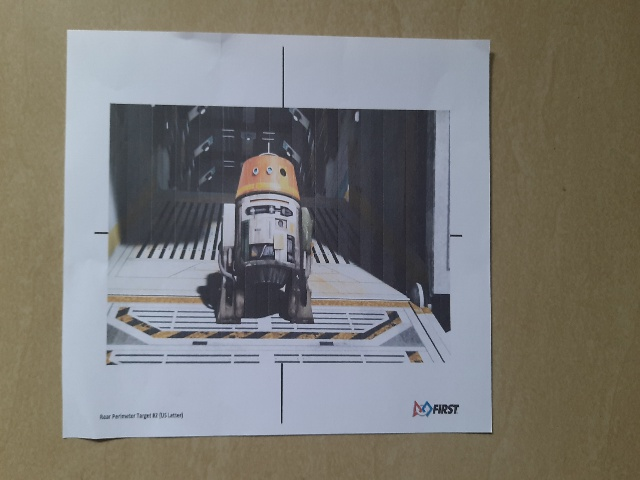rept2: (77, 59, 482, 426)
